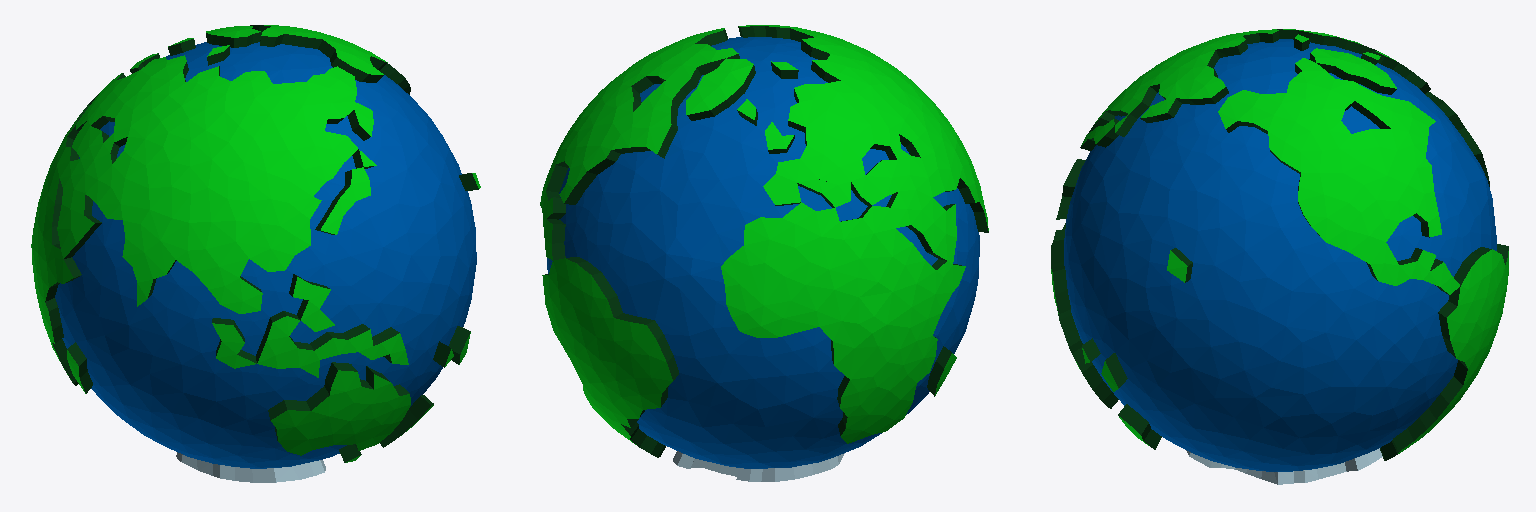
The model's file is Earth.obj.
3 renders of one model, left to right at view 1: azimuth 30°, elevation 25°; view 2: azimuth 150°, elevation 25°; view 3: azimuth 270°, elevation 25°, orthographic.
Visible parts, largest first — view 1: Sphere; view 2: Sphere; view 3: Sphere.
Boxes of the visible parts, x1=… form: Sphere: x1=31, y1=25, x2=480, y2=482; Sphere: x1=540, y1=25, x2=988, y2=481; Sphere: x1=1051, y1=29, x2=1508, y2=484.
Bounding box in the file's own units: 2.04 × 2.11 × 2.11.